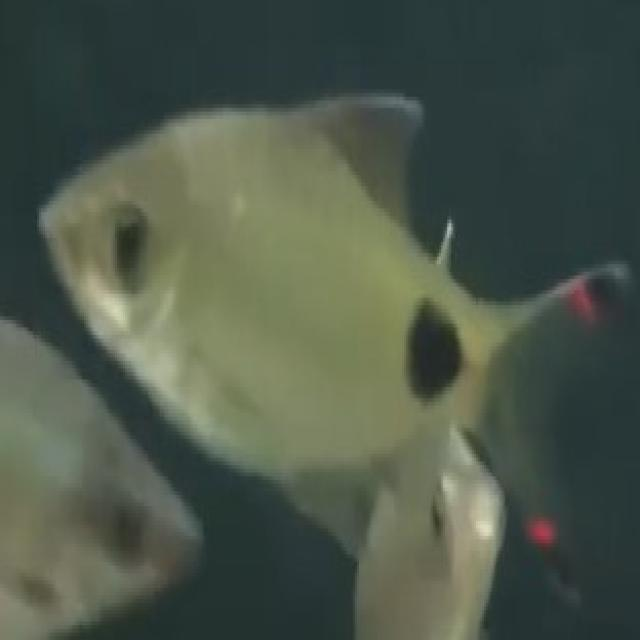Black-Spotted-Barb: (10, 73, 620, 560)
